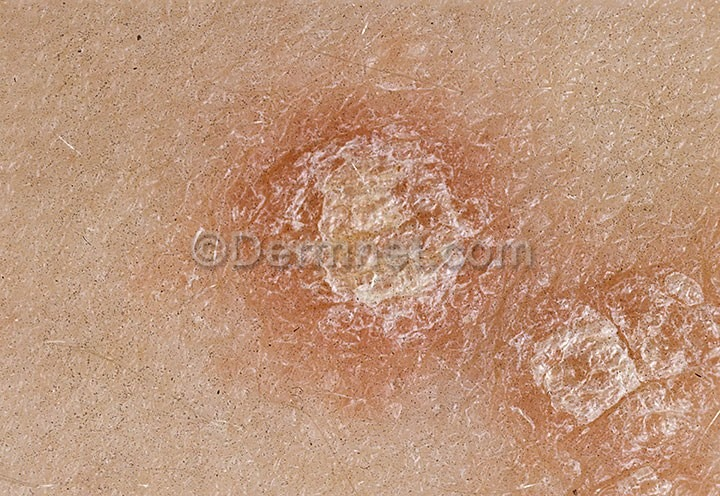Psoriasis: (207, 87, 527, 389), (496, 229, 715, 491)
